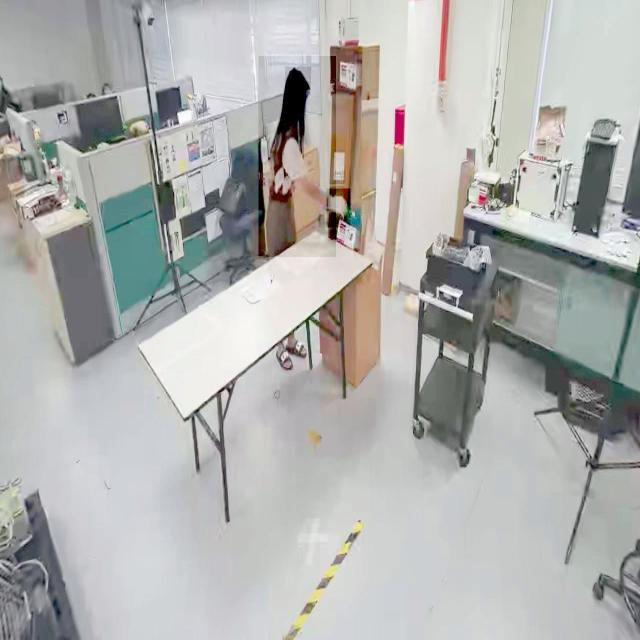hand_glove: (326, 188, 350, 228)
head_nohelmet: (285, 66, 311, 90)
person: (258, 56, 336, 258)
